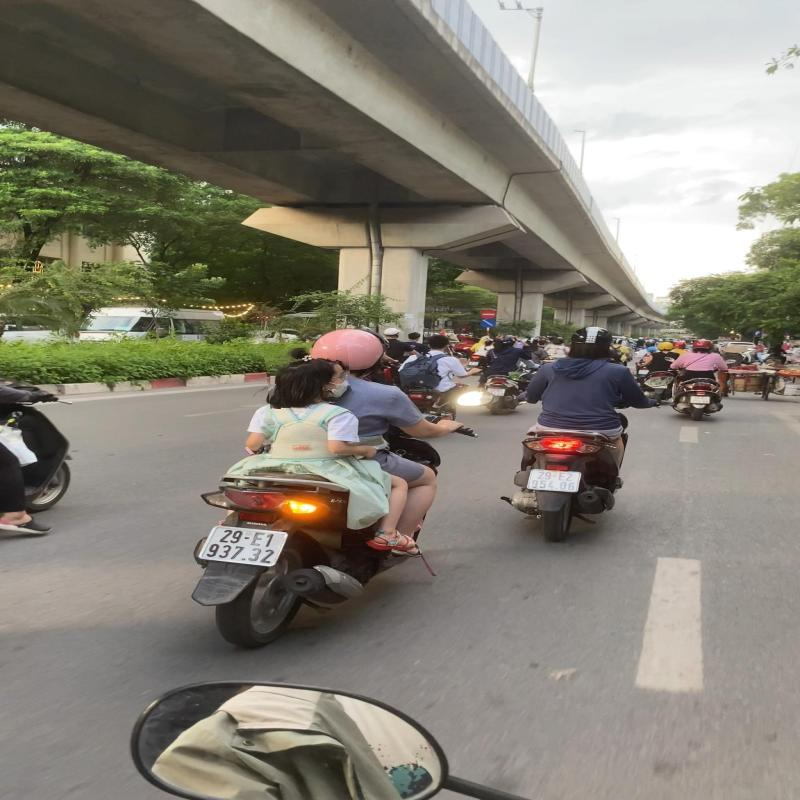nohelmet: (266, 346, 352, 407)
